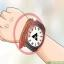watch: (24, 19, 48, 52)
